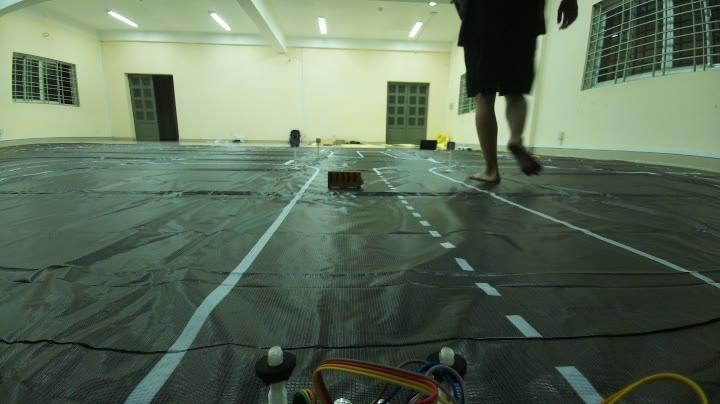roadblock: (322, 163, 364, 195)
